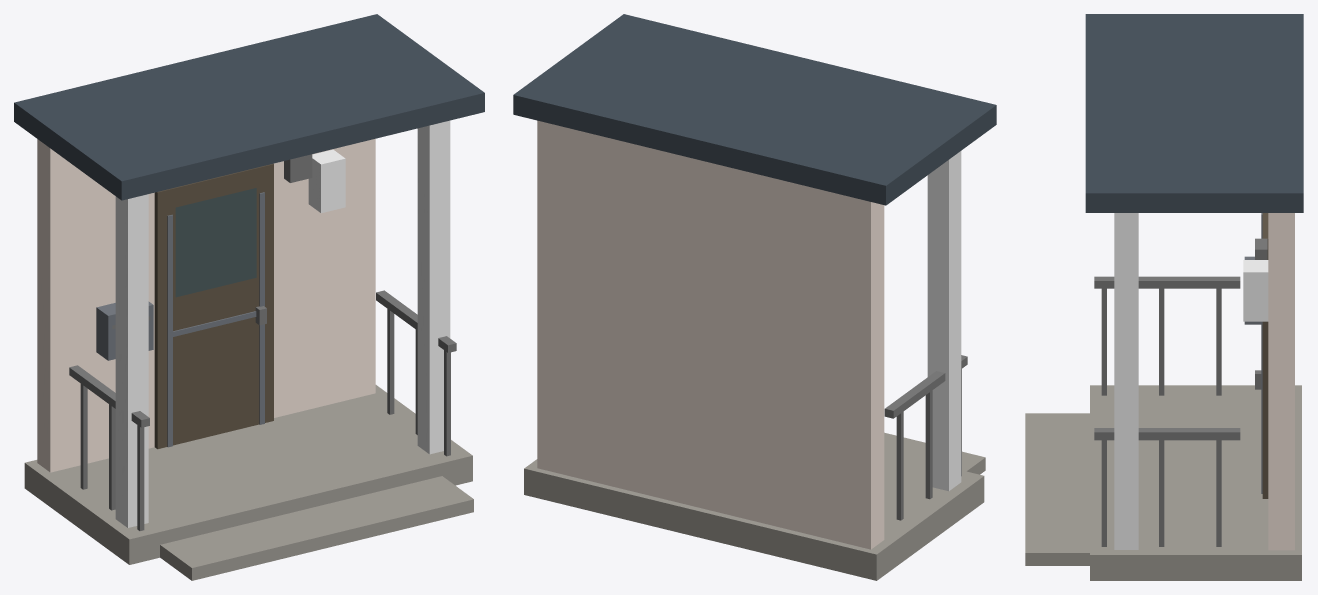
The model's file is entrance_close.fbx.
The picture shows the model from 3 angles, left to right: view 1: azimuth 30°, elevation 25°; view 2: azimuth 150°, elevation 25°; view 3: azimuth 270°, elevation 25°; orthographic projection. The views are drawn at different scales.
Visible parts, largest first — view 1: a2000/0/entrance_close; view 2: a2000/0/entrance_close; view 3: a2000/0/entrance_close.
Part boxes in pixels (bbox=[...]): a2000/0/entrance_close: bbox=[14, 14, 484, 580]; a2000/0/entrance_close: bbox=[513, 14, 996, 580]; a2000/0/entrance_close: bbox=[1025, 14, 1303, 580].
Bounding box in the file's own units: 2.96 × 3.02 × 1.94.
